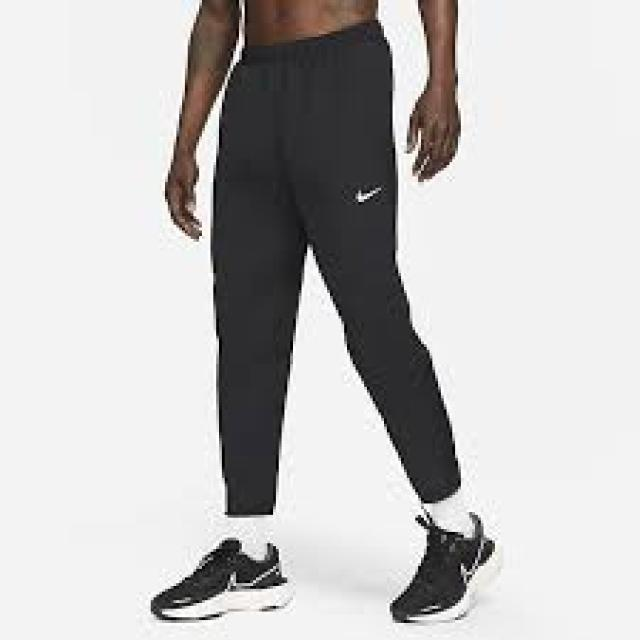pants: (200, 15, 468, 508)
